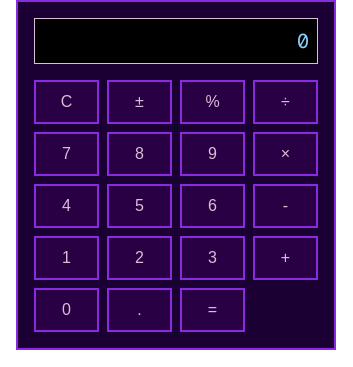
Test: Calculatory › doit remettre l'affichage à 0 avec le bouton C
Click the button "7" at point(66, 154), box [34,132,99,176]
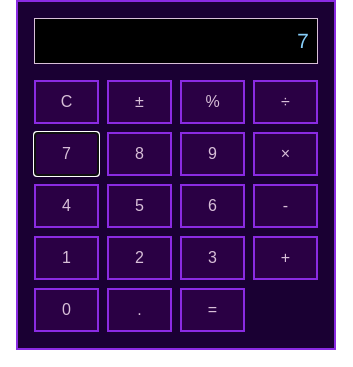
Click the button "C" at point(66, 102), box [34,80,99,124]
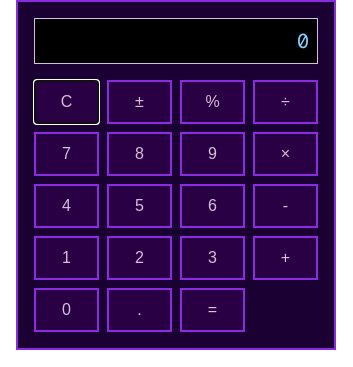
Expected: the message reads "0", [297,28,309,54]
